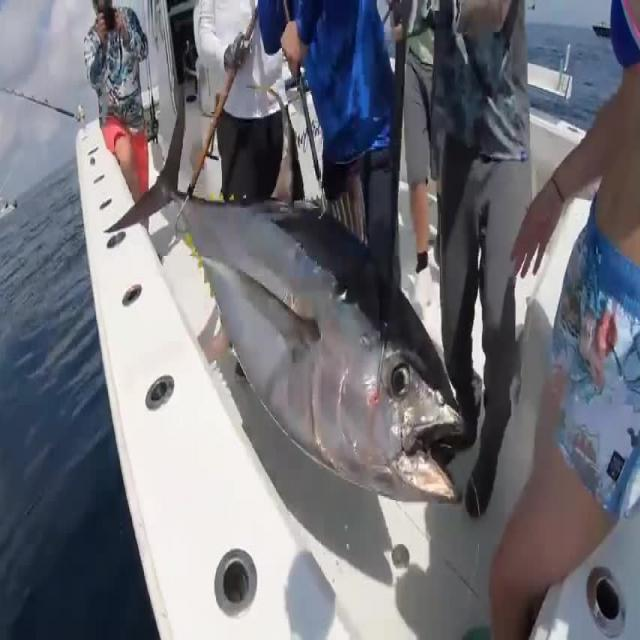Yellowfin Tuna: (102, 73, 466, 508)
